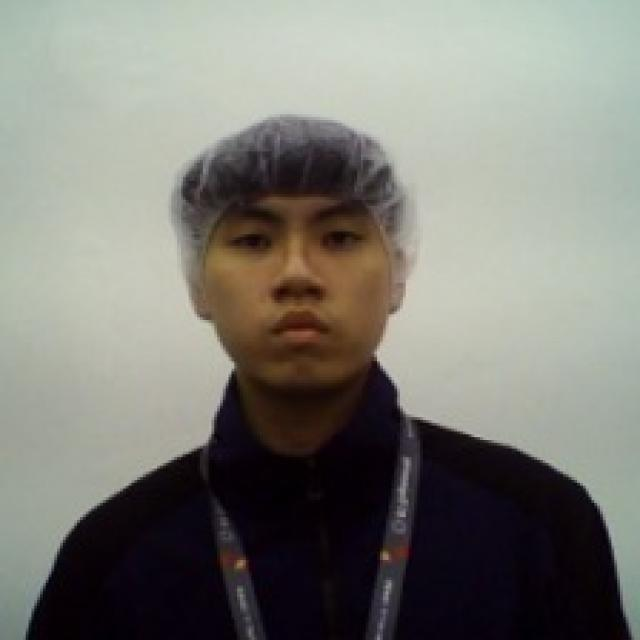gloves: (170, 114, 412, 318)
no_hairnet: (187, 246, 406, 400)
